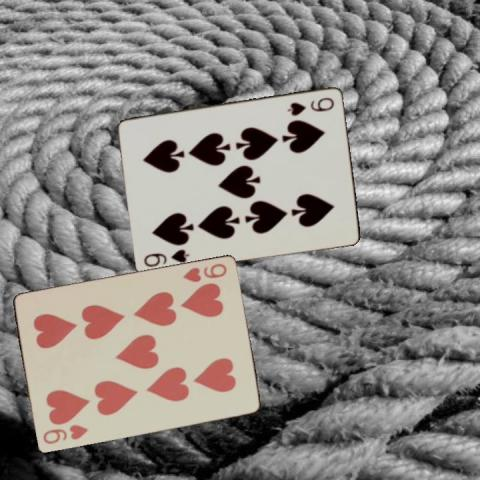9h: (39, 421, 90, 446), (179, 261, 228, 284)
9s: (141, 246, 191, 268), (285, 94, 336, 115)
